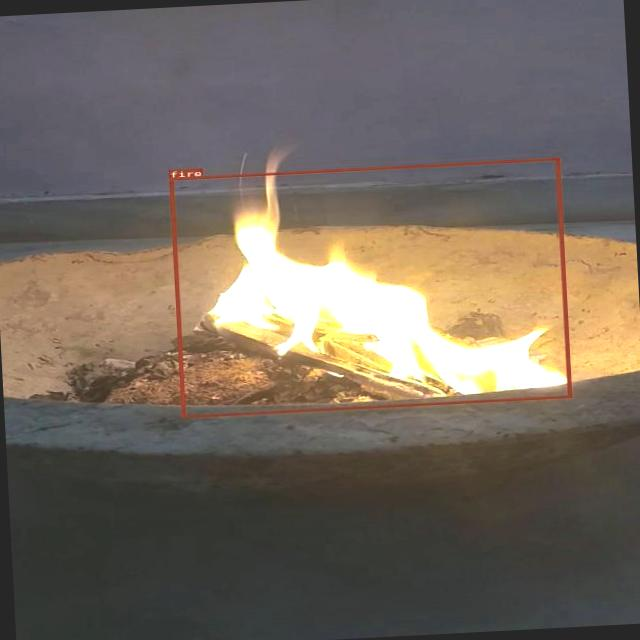fire: (169, 157, 571, 418)
